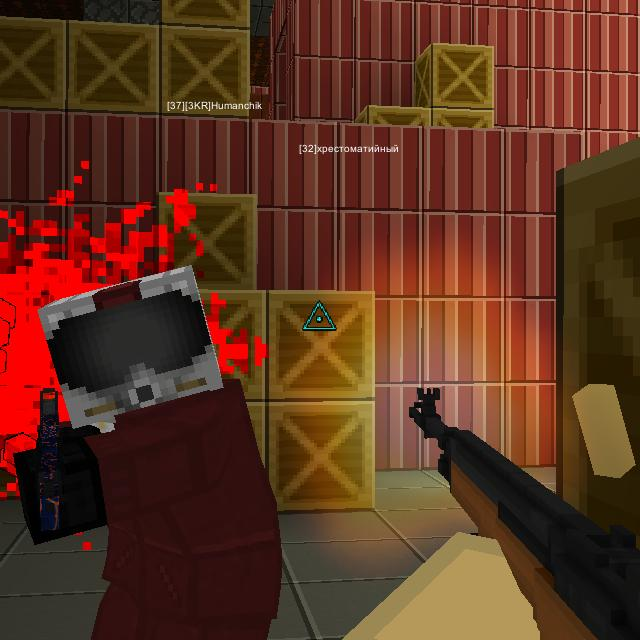enemy: (22, 253, 291, 640)
